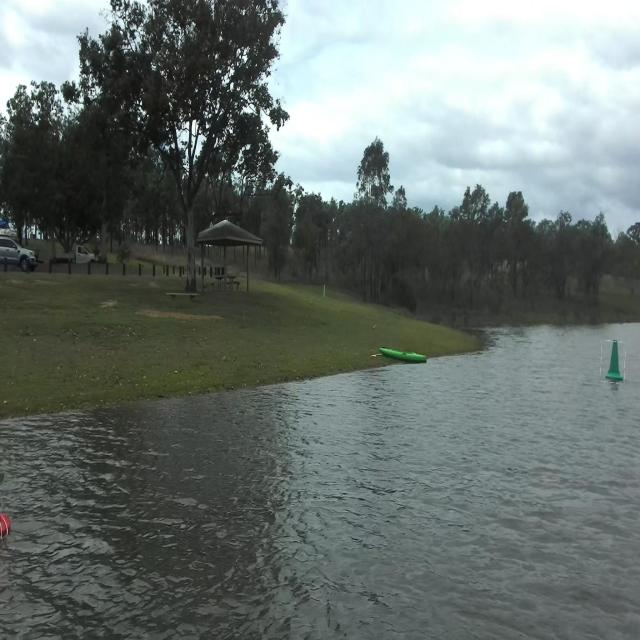Green_Buoy: (606, 328, 632, 392)
Red_Buoy: (4, 509, 15, 543)
